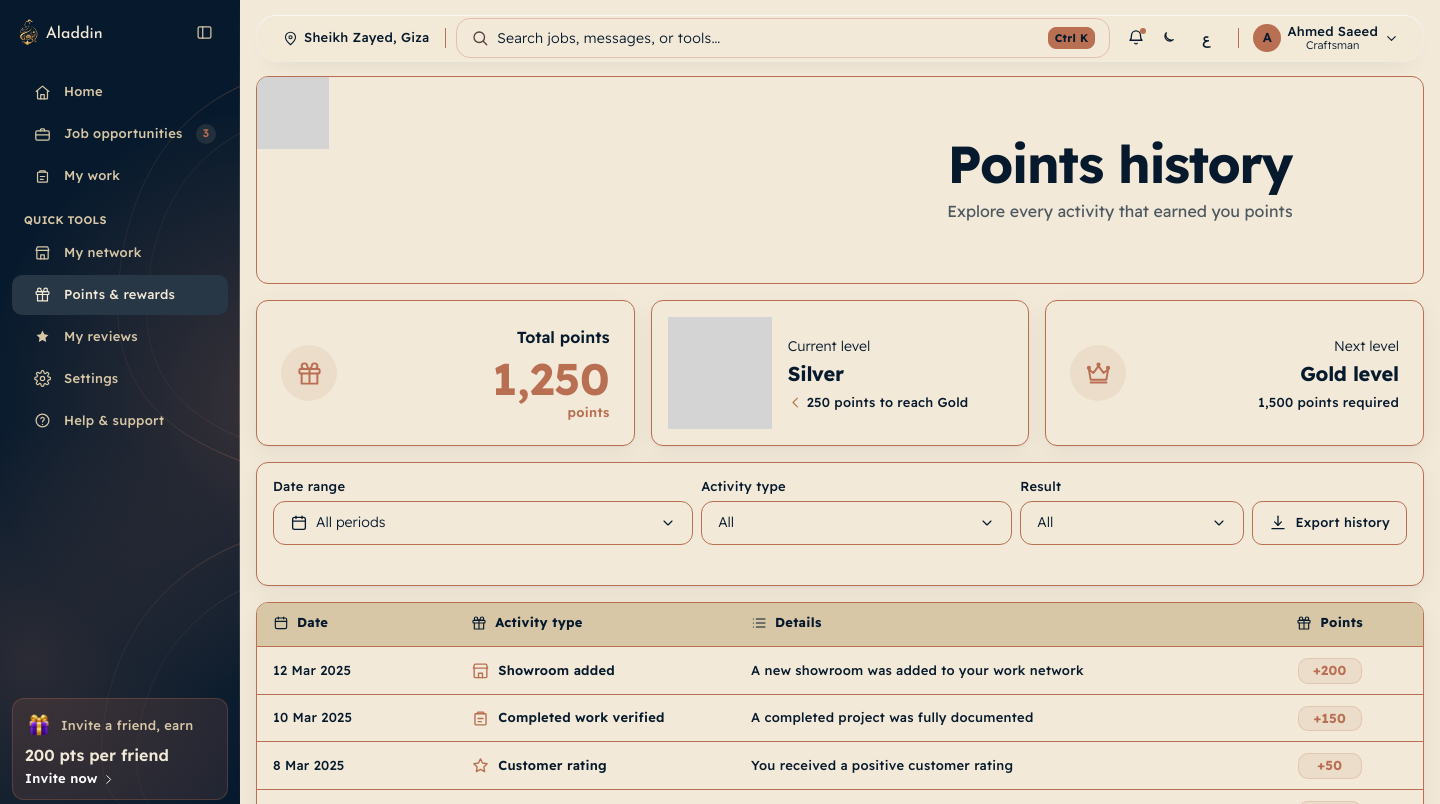
Test case: PointsHistoryPage › keeps the English page fully localized and labels preview export honestly
Expected: the heading "Points history" is shown, left=947, top=138, right=1292, bottom=190
Click the button "Export history" at (1330, 523), box left=1252, top=501, right=1407, bottom=545
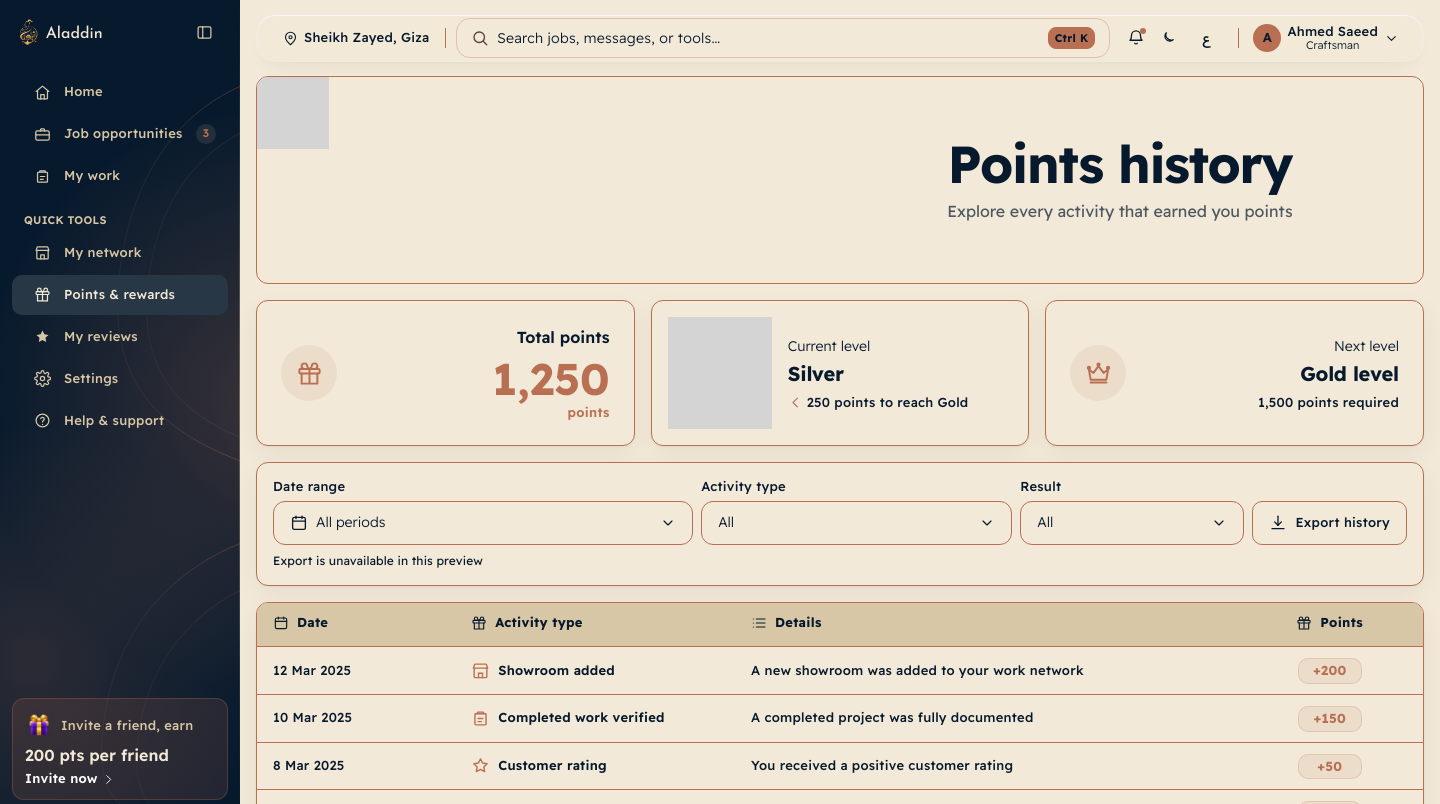
Expected: the text "Export is unavailable in this preview" is shown, left=273, top=553, right=483, bottom=568
